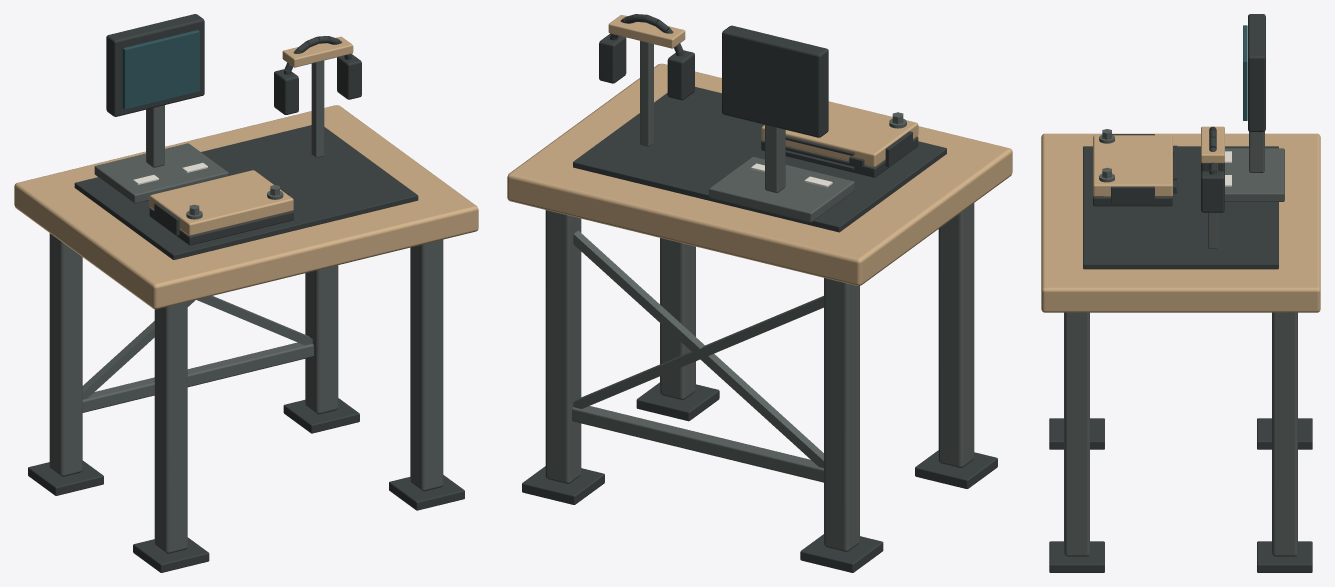
The model's file is public-library-and-reading-garden-public-library-and-r-60b75d29__30942.glb.
3 views of the same model, side by side, from view 1: azimuth 30°, elevation 25°; view 2: azimuth 150°, elevation 25°; view 3: azimuth 270°, elevation 25° (orthographic). The views are drawn at different scales.
Parts seen in each view (by area): view 1: public-library-and-reading-garden-audio-listening-station; view 2: public-library-and-reading-garden-audio-listening-station; view 3: public-library-and-reading-garden-audio-listening-station.
Boxes of the visible parts, x1,y1,x2,y2 form: public-library-and-reading-garden-audio-listening-station: [14, 14, 478, 572]; public-library-and-reading-garden-audio-listening-station: [507, 14, 1012, 572]; public-library-and-reading-garden-audio-listening-station: [1041, 14, 1320, 572].
Size of the model in its own units: 0.93 by 1.22 by 0.7.
